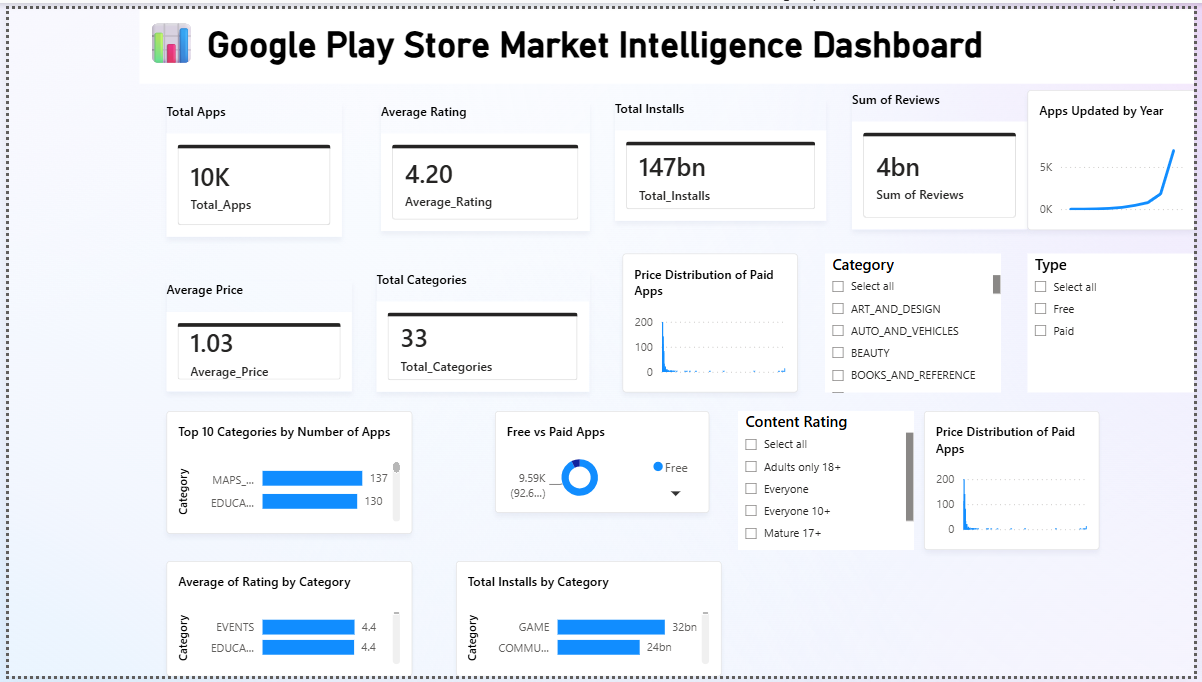

What the dashboard file says about the page in this screenshot:
{"tool":"powerbi","page":{"name":"Page 1","canvas":[1280,720],"ordinal":0},"visuals":[{"type":"cardVisual","title":"Average Rating","fields":{"Data":["googleplaystore_cleaned.Average_Rating"]},"box":[401.6,100.4,225.1,139.3],"z":0},{"type":"cardVisual","title":"Total Installs","fields":{"Data":["googleplaystore_cleaned.Total_Installs"]},"box":[654.2,97.2,228.3,131.2],"z":1000},{"type":"cardVisual","title":"Average Price","fields":{"Data":["googleplaystore_cleaned.Average_Price"]},"box":[170,293.1,200.8,119.8],"z":2000},{"type":"cardVisual","title":"Total Categories","fields":{"Data":["googleplaystore_cleaned.Total_Categories"]},"box":[396.7,281.7,229.9,131.2],"z":3000},{"type":"cardVisual","title":"Sum of Reviews","fields":{"Data":["Sum(googleplaystore_cleaned.Reviews)"]},"box":[910,87.4,189.4,150.6],"z":4000},{"type":"clusteredBarChart","title":"Top 10 Categories by Number of Apps","fields":{"Y":["CountNonNull(googleplaystore_cleaned.App)"],"Category":["googleplaystore_cleaned.Category"]},"box":[170,434,265.6,132.8],"z":5000},{"type":"donutChart","title":"Free vs Paid Apps","fields":{"Category":["googleplaystore_cleaned.Type"],"Y":["CountNonNull(googleplaystore_cleaned.App)"]},"box":[524.6,434,231.5,110.1],"z":6000},{"type":"clusteredBarChart","fields":{"Category":["googleplaystore_cleaned.Category"],"Y":["Avg(googleplaystore_cleaned.Rating)"]},"box":[170,595.9,265.6,124.7],"z":7000},{"type":"clusteredBarChart","title":"Total Installs by Category","fields":{"Category":["googleplaystore_cleaned.Category"],"Y":["Sum(googleplaystore_cleaned.Installs)"]},"box":[482.5,595.9,286.6,124.7],"z":8000},{"type":"cardVisual","title":"Total Apps","fields":{"Data":["googleplaystore_cleaned.Total_Apps"]},"box":[170,100.4,189.4,145.7],"z":9000},{"type":"textbox","box":[140.9,0,1139.9,81],"z":10000},{"type":"lineChart","title":"Apps Updated by Year","fields":{"Category":["googleplaystore_cleaned.Update Year"],"Y":["CountNonNull(googleplaystore_cleaned.App)"]},"box":[1099,87,181,151],"z":11000},{"type":"clusteredColumnChart","title":"Price Distribution of Paid Apps","fields":{"Category":["googleplaystore_cleaned.Price"],"Y":["CountNonNull(googleplaystore_cleaned.App)"]},"box":[662.3,263.9,189,150],"z":12000},{"type":"slicer","fields":{"Values":["googleplaystore_cleaned.Category"]},"box":[880.9,263.9,189,150],"z":13000},{"type":"slicer","fields":{"Values":["googleplaystore_cleaned.Type"]},"box":[1099,264,181,150],"z":14000},{"type":"slicer","fields":{"Values":["googleplaystore_cleaned.Content Rating"]},"box":[786.9,434.4,189,150],"z":15000},{"type":"clusteredColumnChart","title":"Price Distribution of Paid Apps","fields":{"Category":["googleplaystore_cleaned.Price"],"Y":["CountNonNull(googleplaystore_cleaned.App)"]},"box":[987,434,189,150],"z":15001}]}

Visuals, with their boxes in screenshot pixels (x1, y1, x2, y2), scaled from the page's 1280x720 canvas onto the 1202x682 screenshot:
"Average Rating" cardVisual: left=377, top=95, right=589, bottom=227
"Total Installs" cardVisual: left=614, top=92, right=829, bottom=216
"Average Price" cardVisual: left=160, top=278, right=348, bottom=391
"Total Categories" cardVisual: left=373, top=267, right=588, bottom=391
"Sum of Reviews" cardVisual: left=855, top=83, right=1032, bottom=225
"Top 10 Categories by Number of Apps" clusteredBarChart: left=160, top=411, right=409, bottom=537
"Free vs Paid Apps" donutChart: left=493, top=411, right=710, bottom=515
clusteredBarChart - googleplaystore_cleaned.Category x Avg(googleplaystore_cleaned.Rating): left=160, top=564, right=409, bottom=681
"Total Installs by Category" clusteredBarChart: left=453, top=564, right=722, bottom=681
"Total Apps" cardVisual: left=160, top=95, right=337, bottom=233
textbox: left=132, top=0, right=1201, bottom=77
"Apps Updated by Year" lineChart: left=1032, top=82, right=1201, bottom=225
"Price Distribution of Paid Apps" clusteredColumnChart: left=622, top=250, right=799, bottom=392
slicer - googleplaystore_cleaned.Category: left=827, top=250, right=1005, bottom=392
slicer - googleplaystore_cleaned.Type: left=1032, top=250, right=1201, bottom=392
slicer - googleplaystore_cleaned.Content Rating: left=739, top=411, right=916, bottom=554
"Price Distribution of Paid Apps" clusteredColumnChart: left=927, top=411, right=1104, bottom=553
